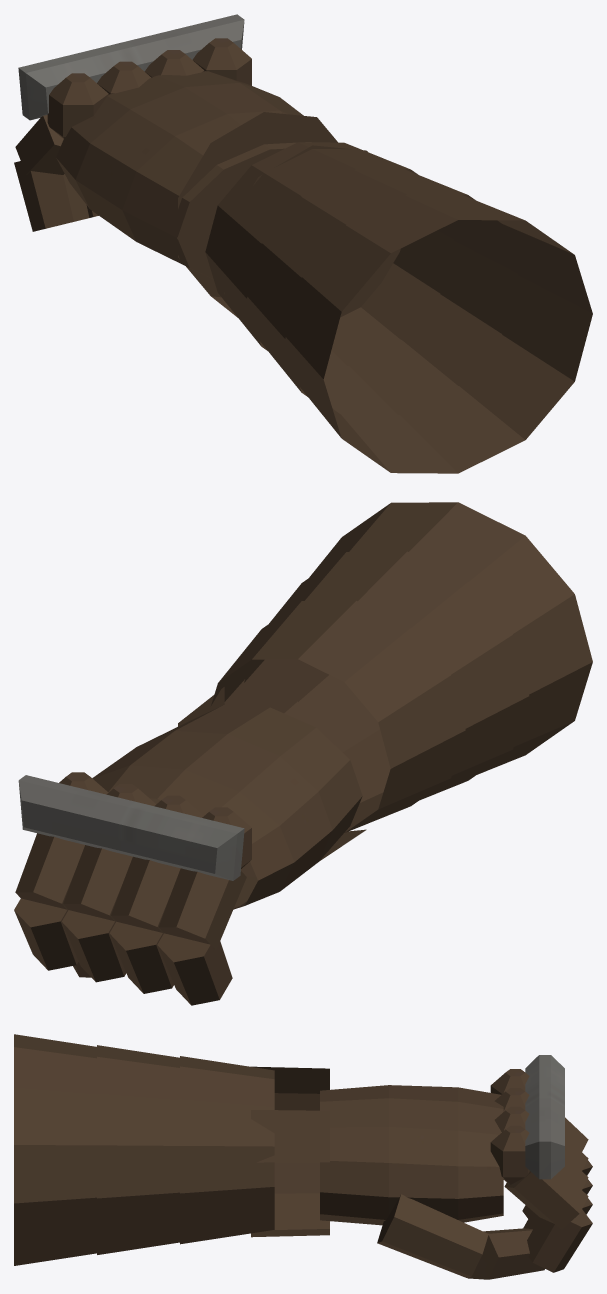
Rendered from wpn_gauntlet_common.glb.
3 views of the same model, one above another, from view 1: azimuth 30°, elevation 25°; view 2: azimuth 150°, elevation 25°; view 3: azimuth 270°, elevation 25° (orthographic). The views are drawn at different scales.
Visible parts, largest first — view 1: wpn_gauntlet_common; view 2: wpn_gauntlet_common; view 3: wpn_gauntlet_common.
Part boxes in pixels (<box>): wpn_gauntlet_common: <box>14,14,592,473</box>; wpn_gauntlet_common: <box>14,502,592,1005</box>; wpn_gauntlet_common: <box>14,1034,592,1279</box>.
Bounding box in the file's own units: 0.128 × 0.1157 × 0.2933.
Materials: 2 (2 with a texture image).
